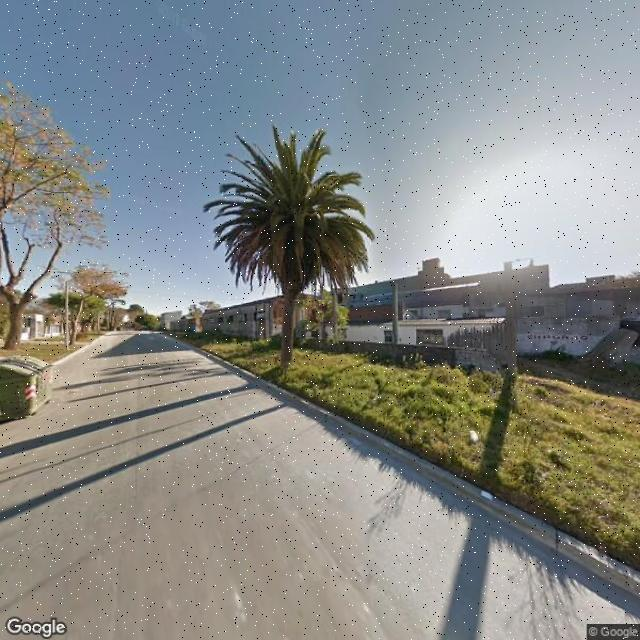garbage container: (1, 348, 63, 427)
